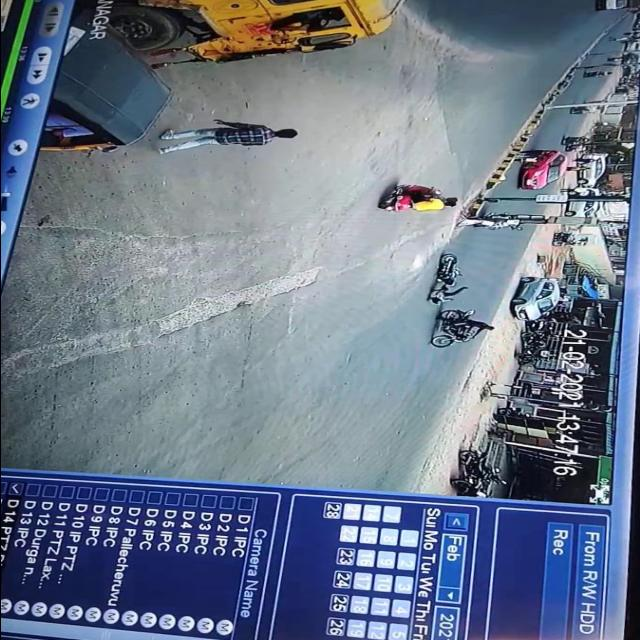accident: (414, 249, 478, 315)
